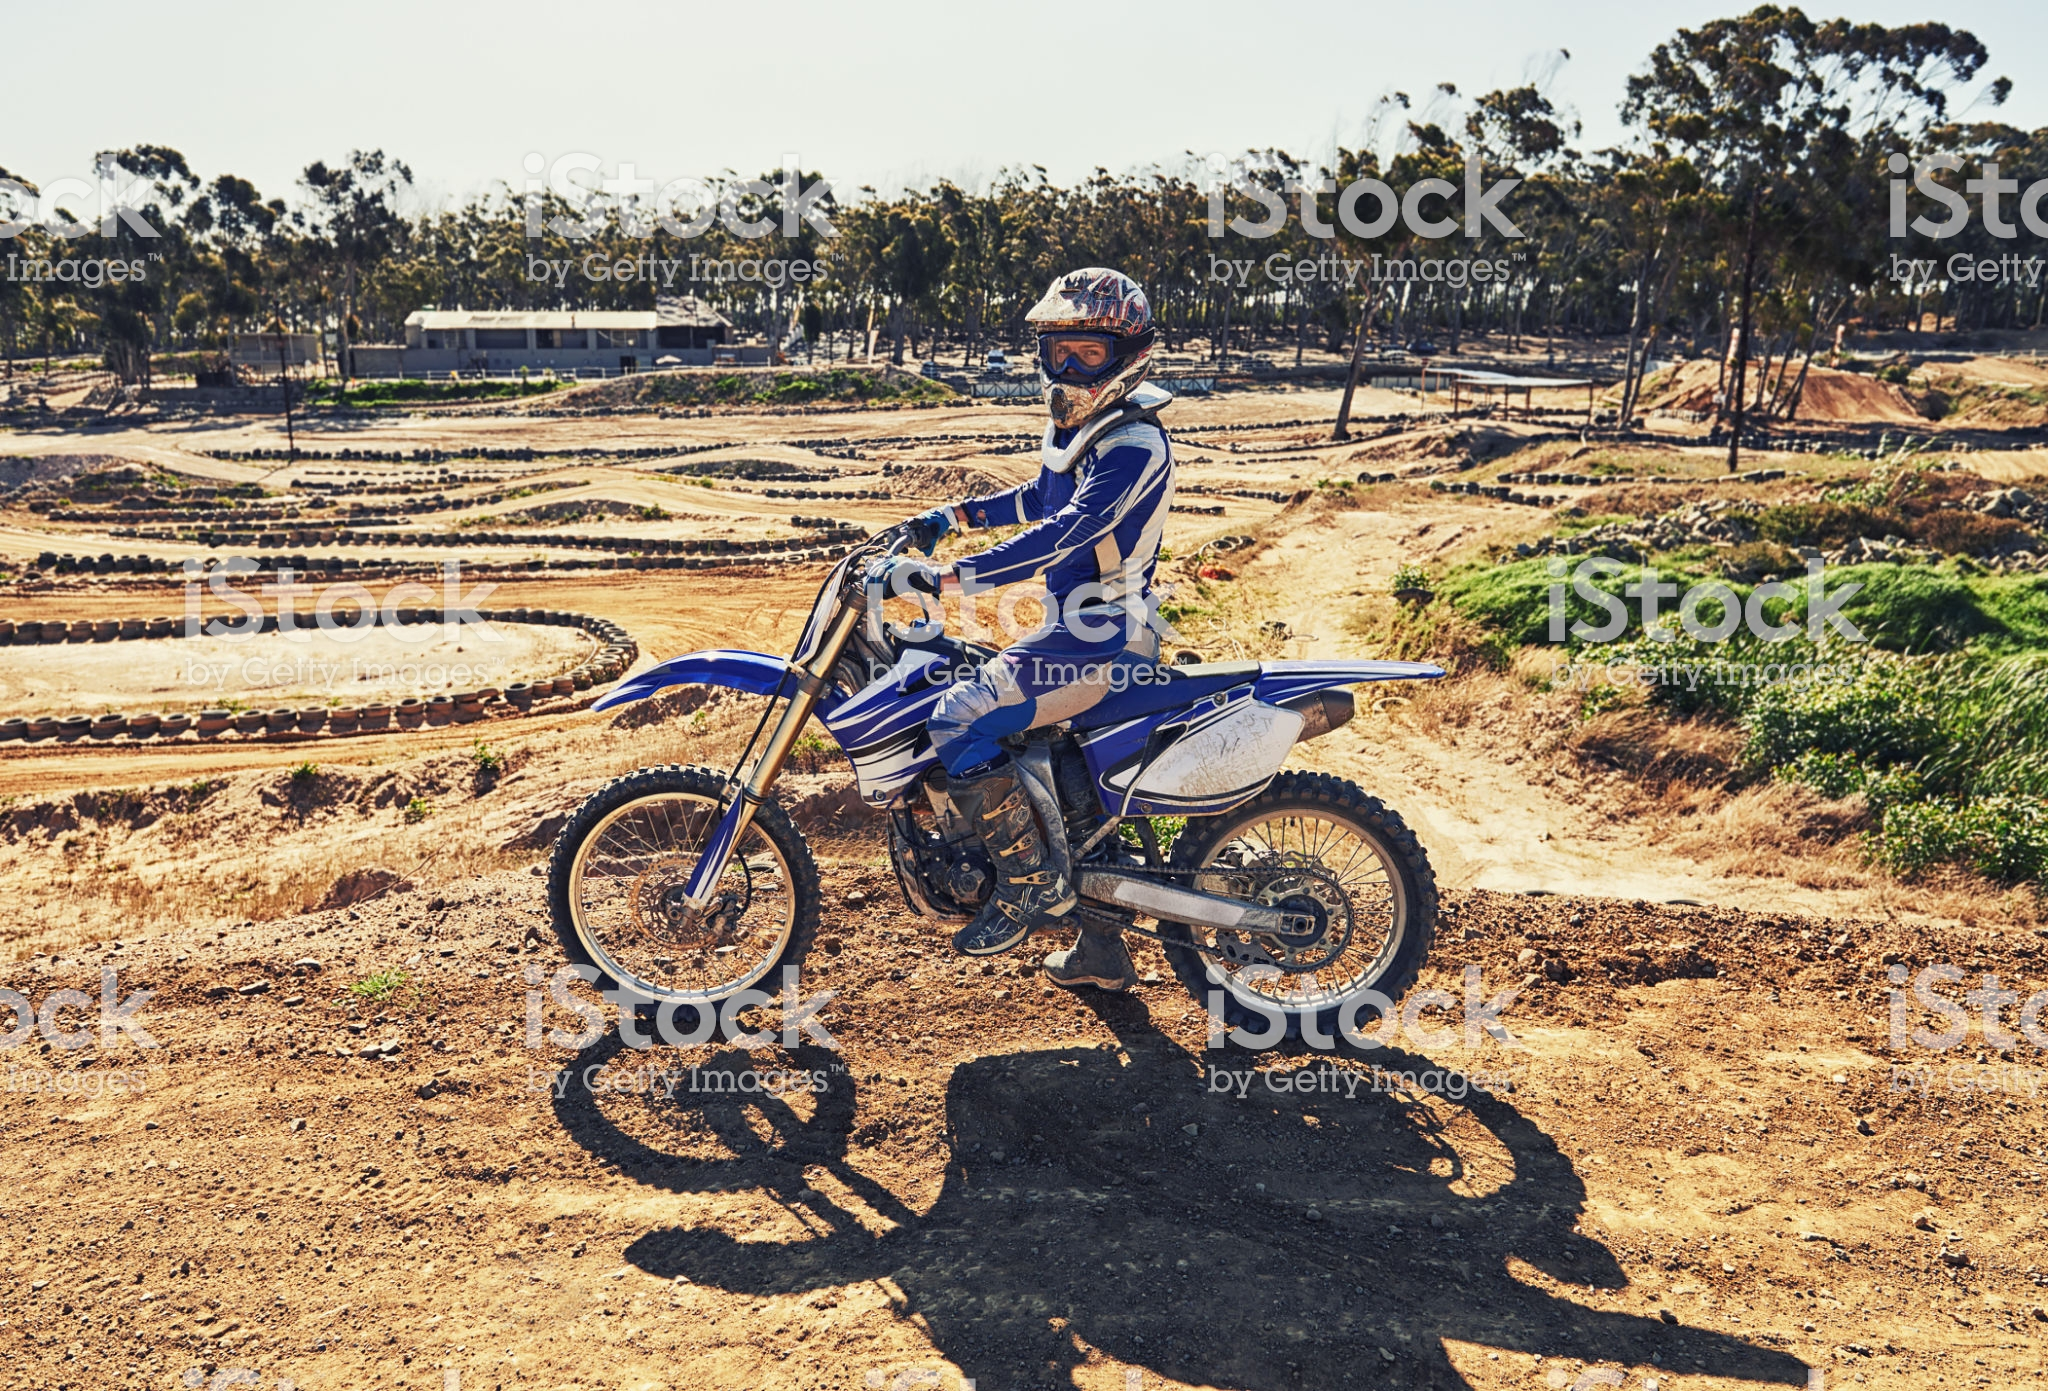helmet: (1028, 273, 1166, 430)
